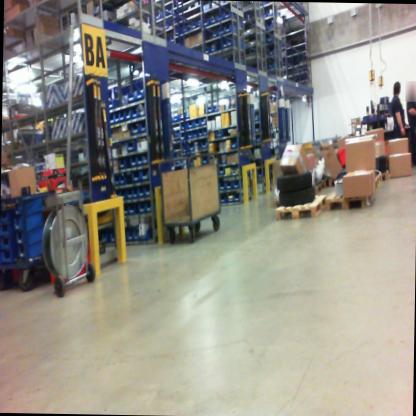pallet: (324, 183, 378, 214), (273, 193, 328, 222), (363, 173, 383, 193), (305, 178, 326, 194), (375, 172, 391, 185), (321, 174, 335, 185)
small_load_carrier: (335, 143, 353, 168)
